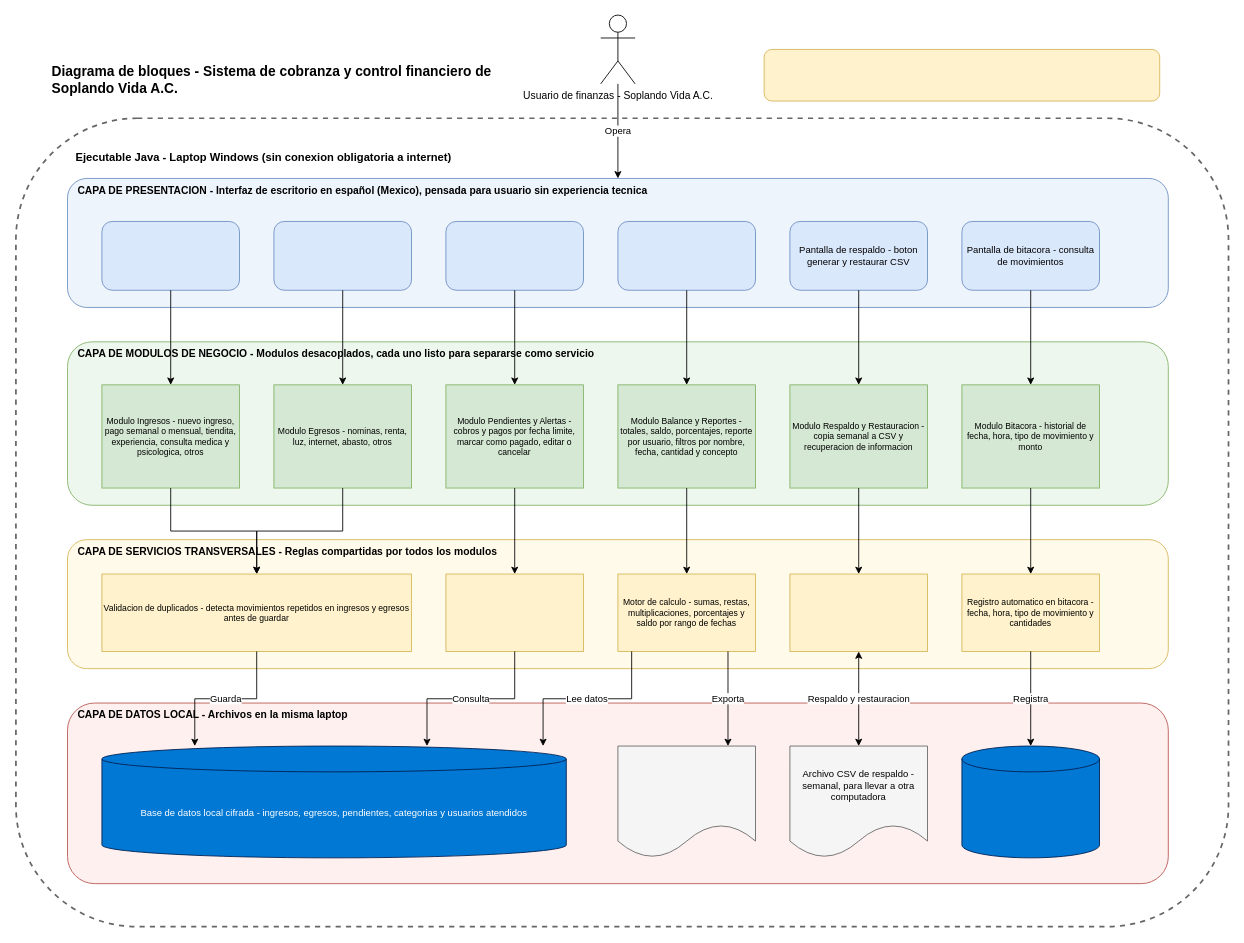
This 1244x943 diagram has some shape labels left out. The shapes that lost their labels are listed below. From the top down, each one's centre as x and y in pixels, then its label:
pixel 961 75: Nota: arquitectura modular por capas.
pixel 170 255: Pantalla de ingresos - captura y busqueda
pixel 342 255: Pantalla de egresos - captura y busqueda
pixel 514 255: Pantalla de pendientes - alerta de vencimientos al abrir la app
pixel 686 255: Pantalla de balance y reportes - rango de fechas libre
pixel 514 612: Generador de alertas - revisa fechas limite y avisa al abrir la aplicacion
pixel 858 612: Servicio de respaldo y cifrado - genera y lee el CSV y protege datos sensibles
pixel 686 801: Archivo Excel - reportes de balance y por usuario
pixel 1030 801: Bitacora de movimientos - historial de cambios
